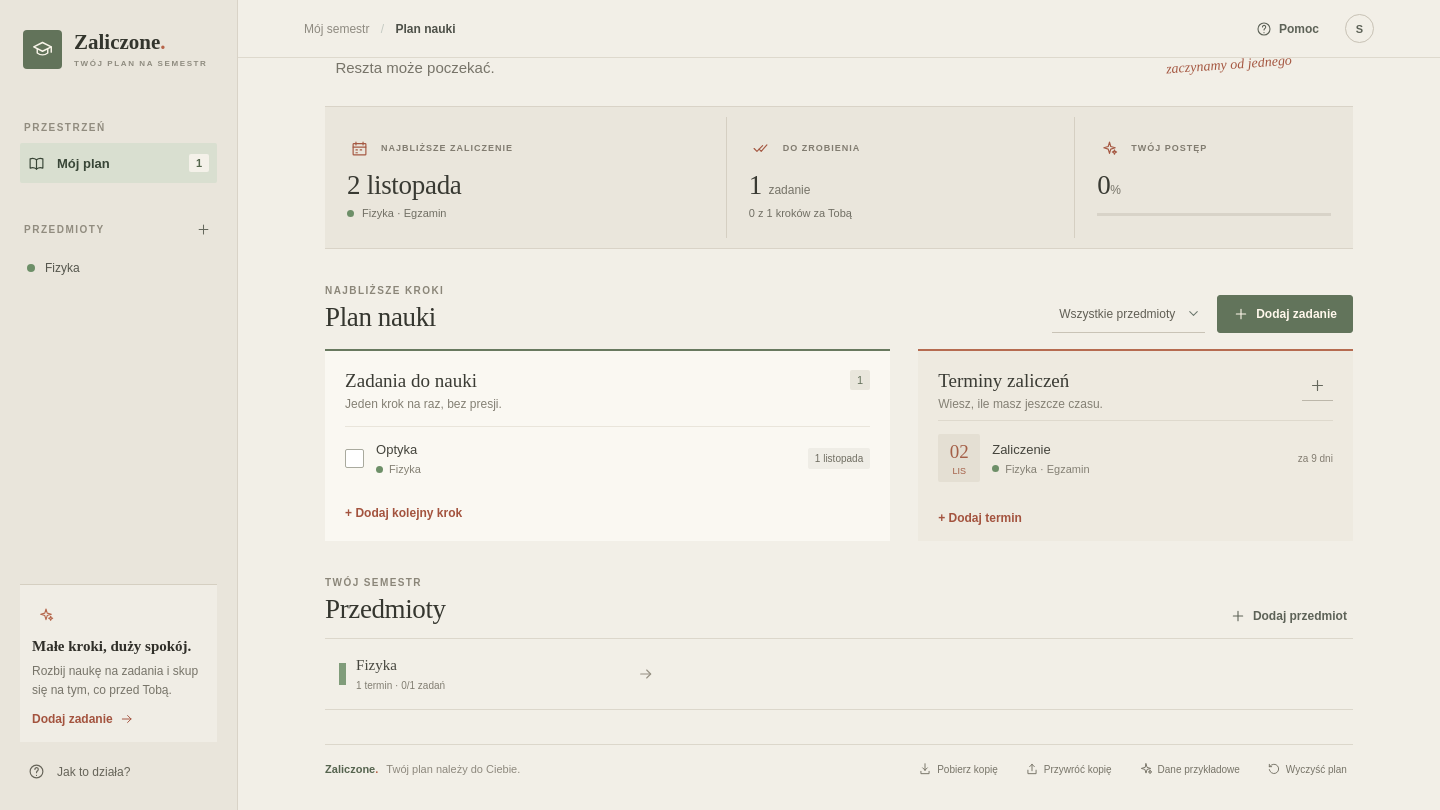
Scenario: bezpieczne zmiany planu i własne okna › pozwala anulować wczytanie demo i wyczyszczenie własnego planu
(page scrolled)
Step 1. Click the button "Dane przykładowe" → [1189, 769], box 1133,761 -> 1246,777
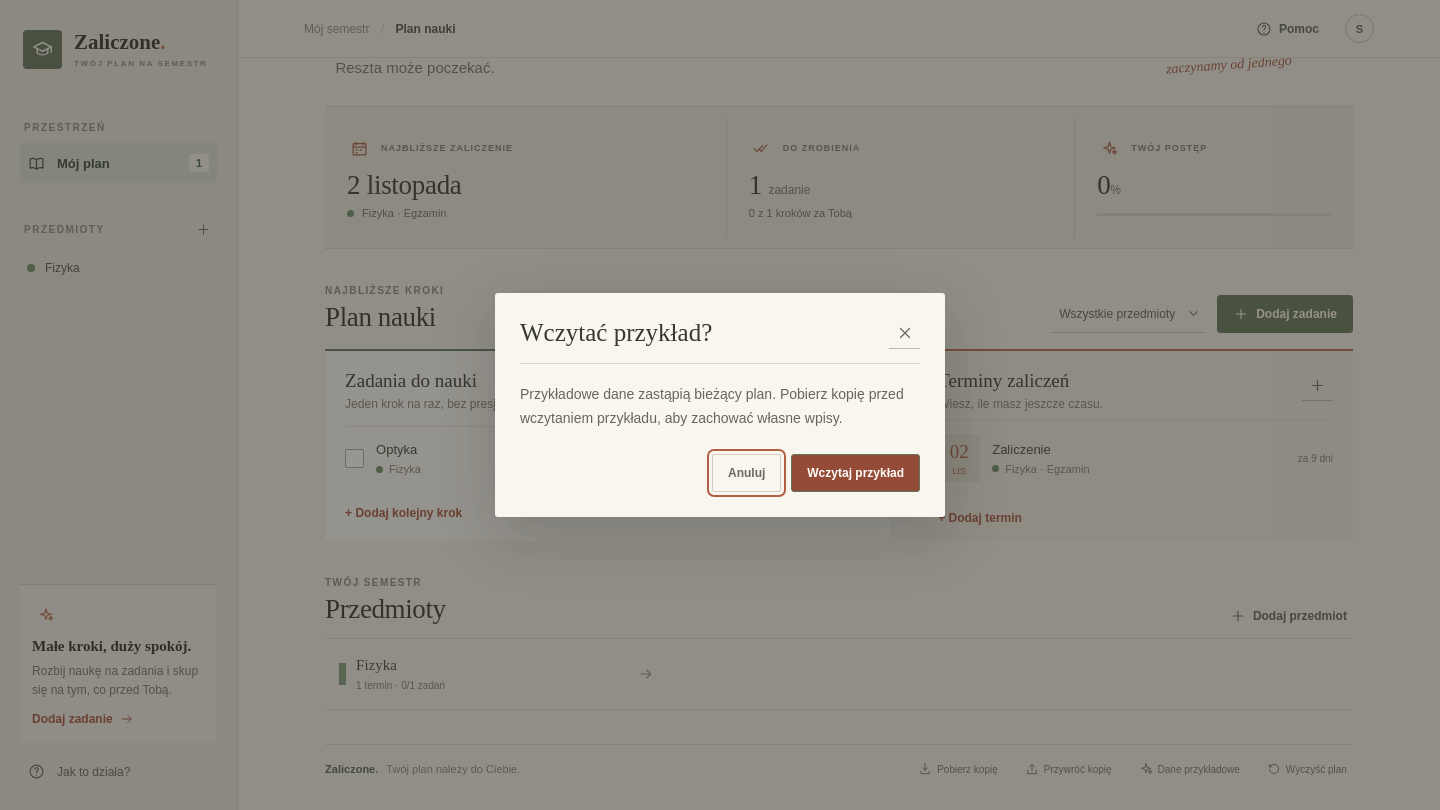
Step 2. Click the button "Anuluj" → [747, 473], box 712,454 -> 781,492
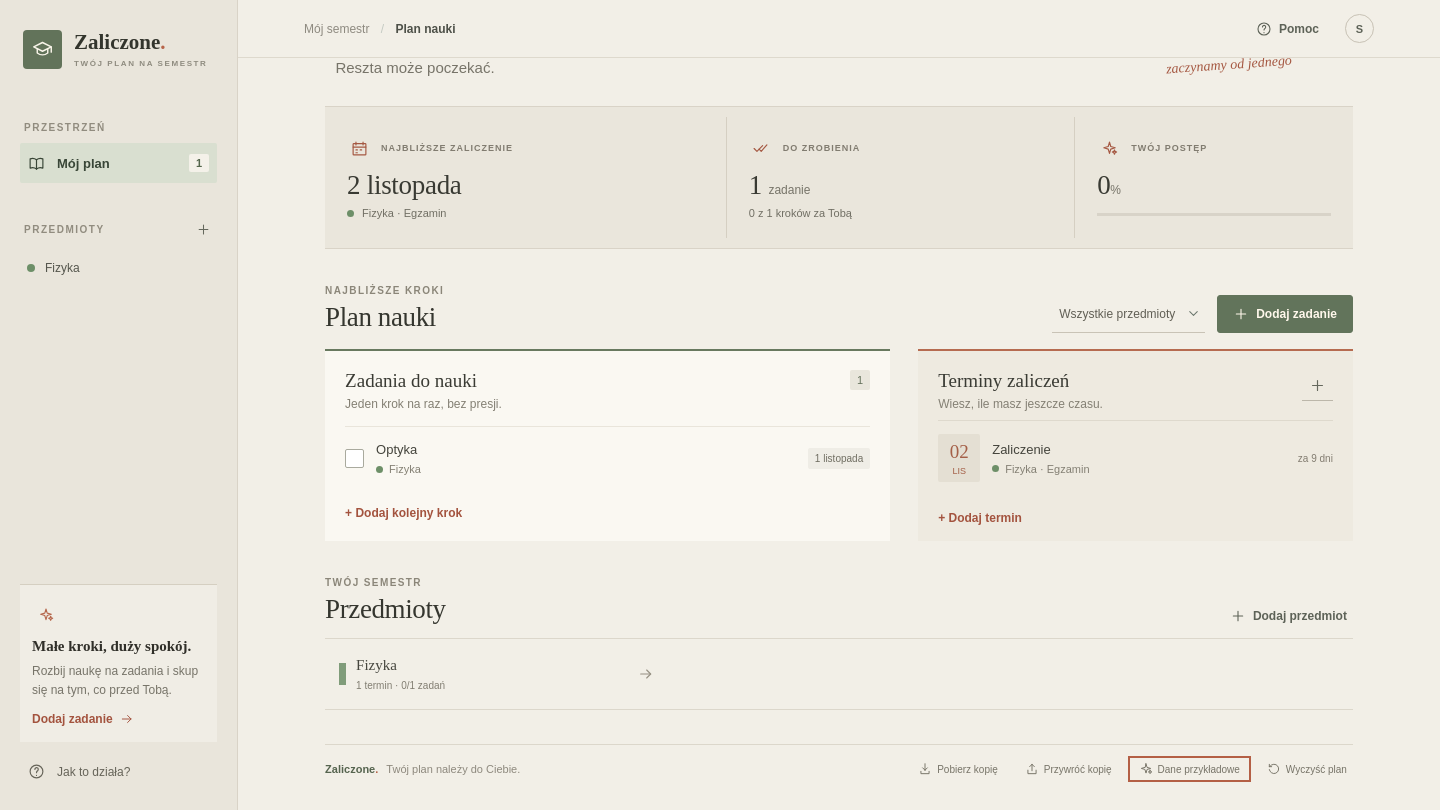
Step 3. Click the button "Wyczyść plan" → [1307, 769], box 1261,761 -> 1353,777
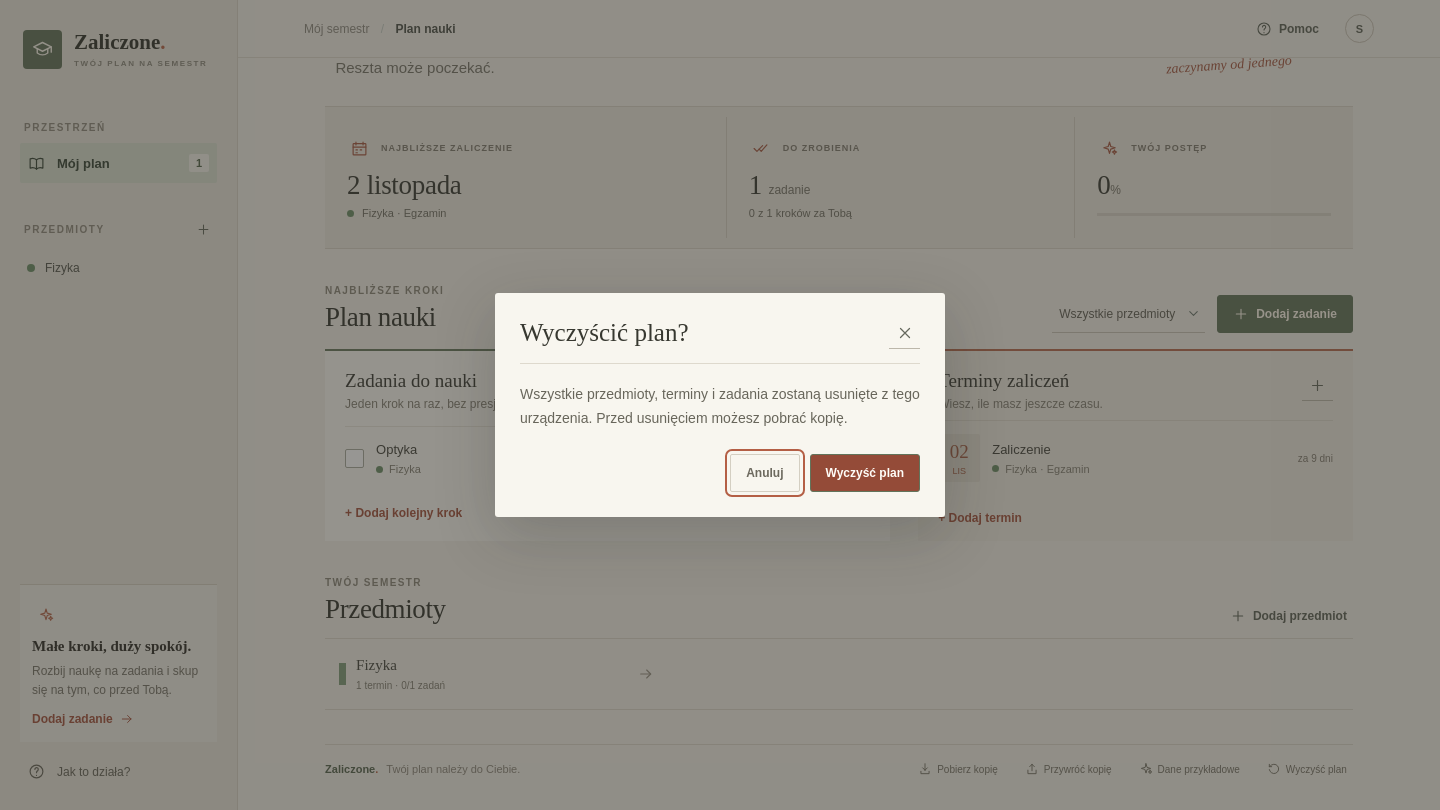
Step 4. Click the button "Anuluj" → [765, 473], box 730,454 -> 800,492
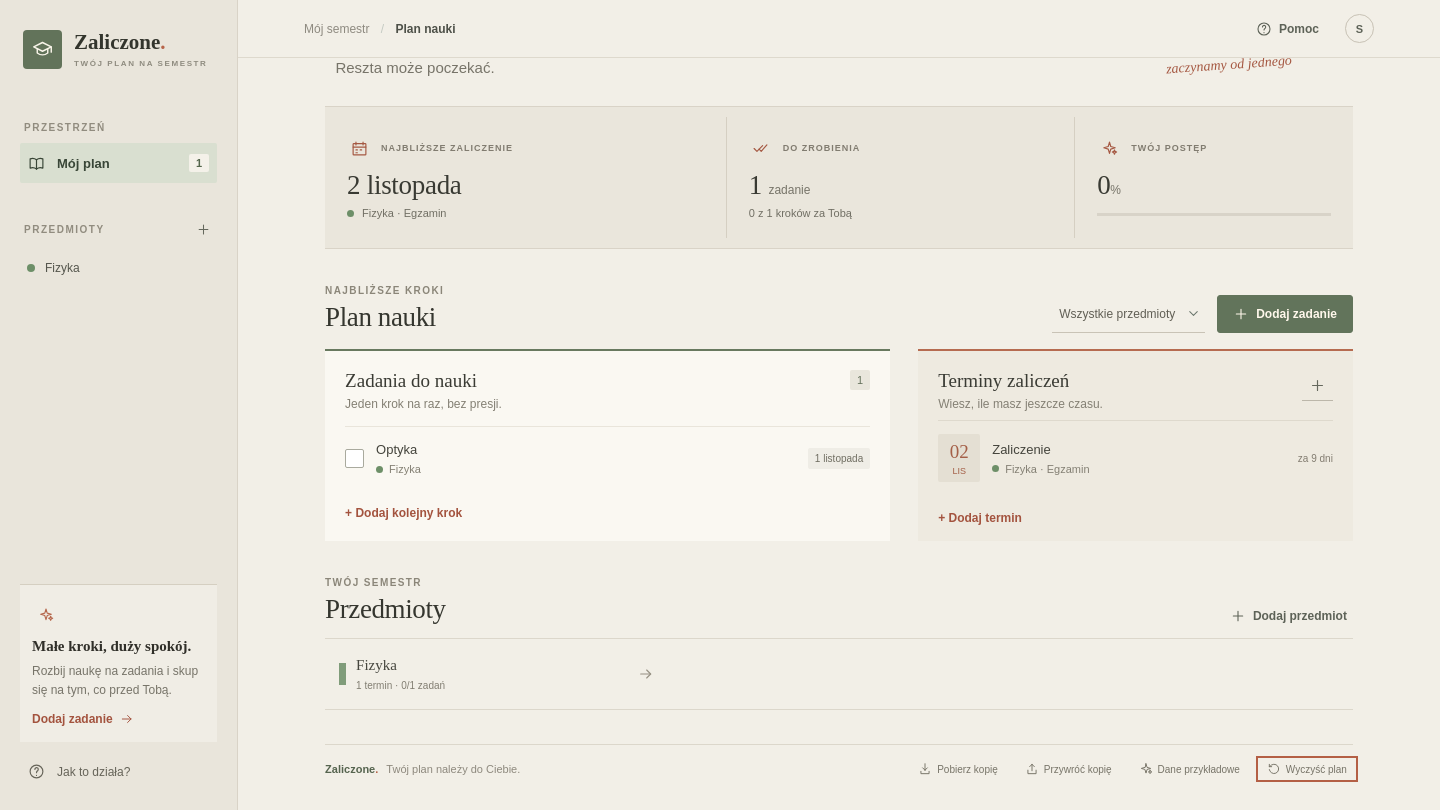
Step 5. Click the button "Wyczyść plan" → [1307, 769], box 1261,761 -> 1353,777
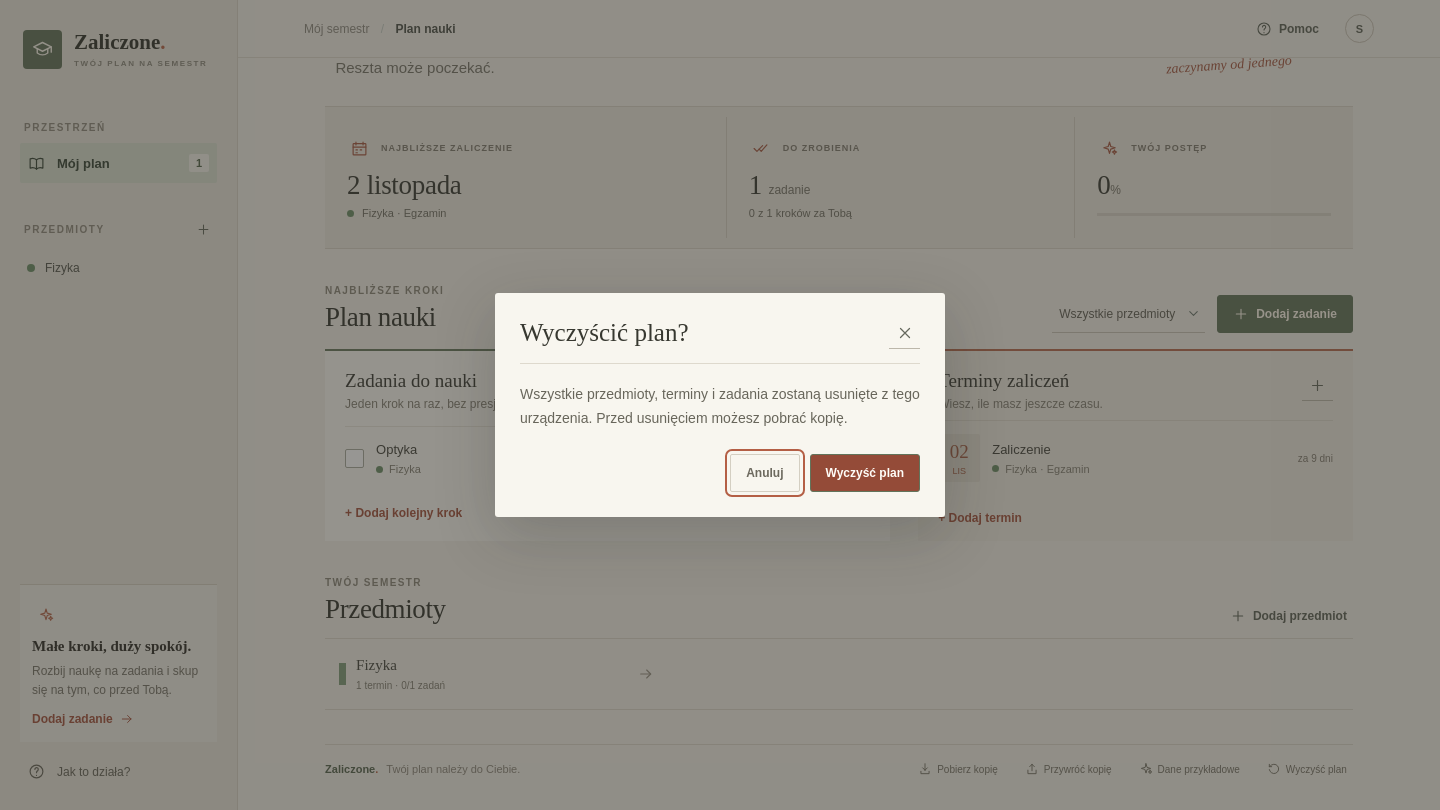
Step 6. Click the button "Wyczyść plan" → [865, 473], box 810,454 -> 920,492
(page scrolled)
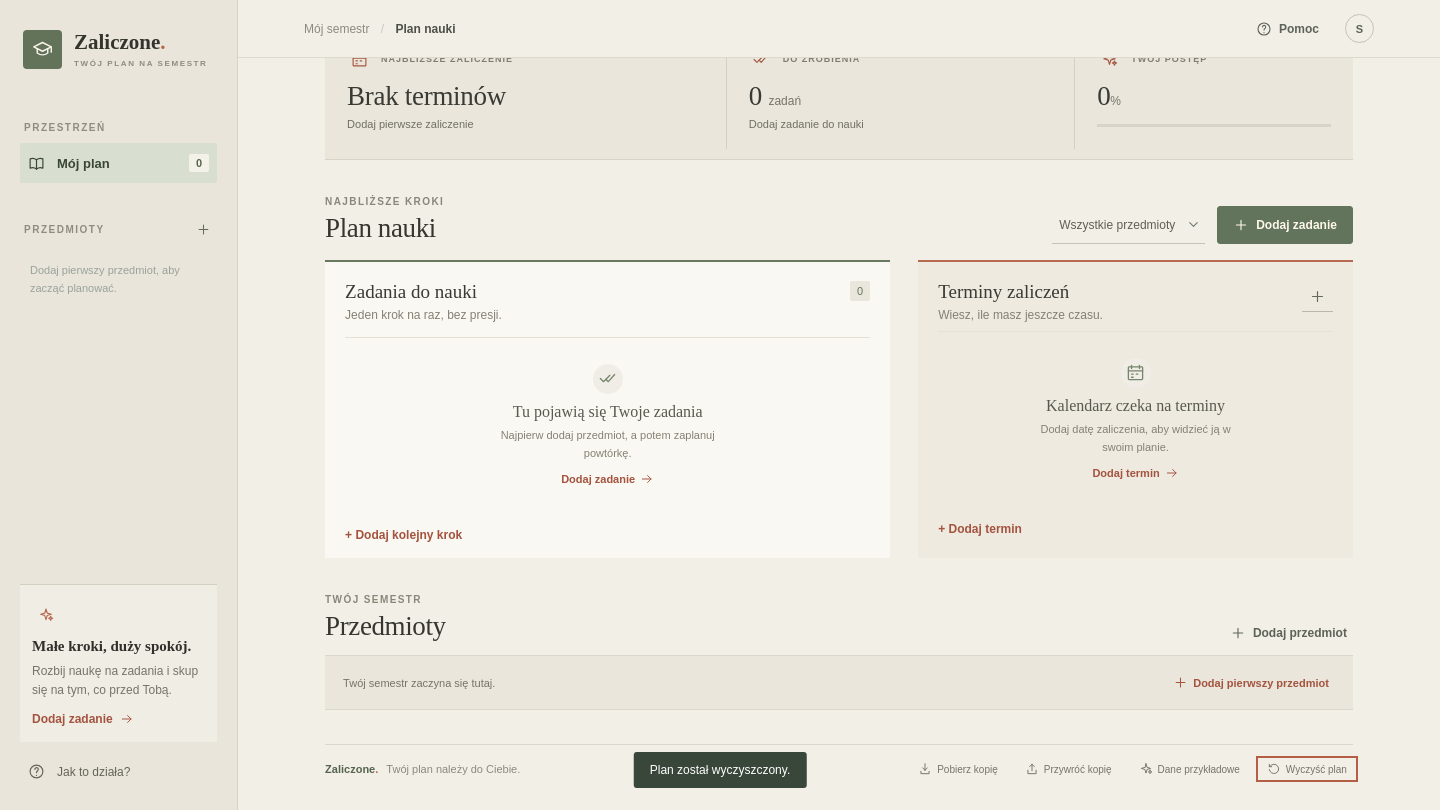
Check: the text "Twój semestr zaczyna się tutaj." is shown, box 343,677 -> 495,689
